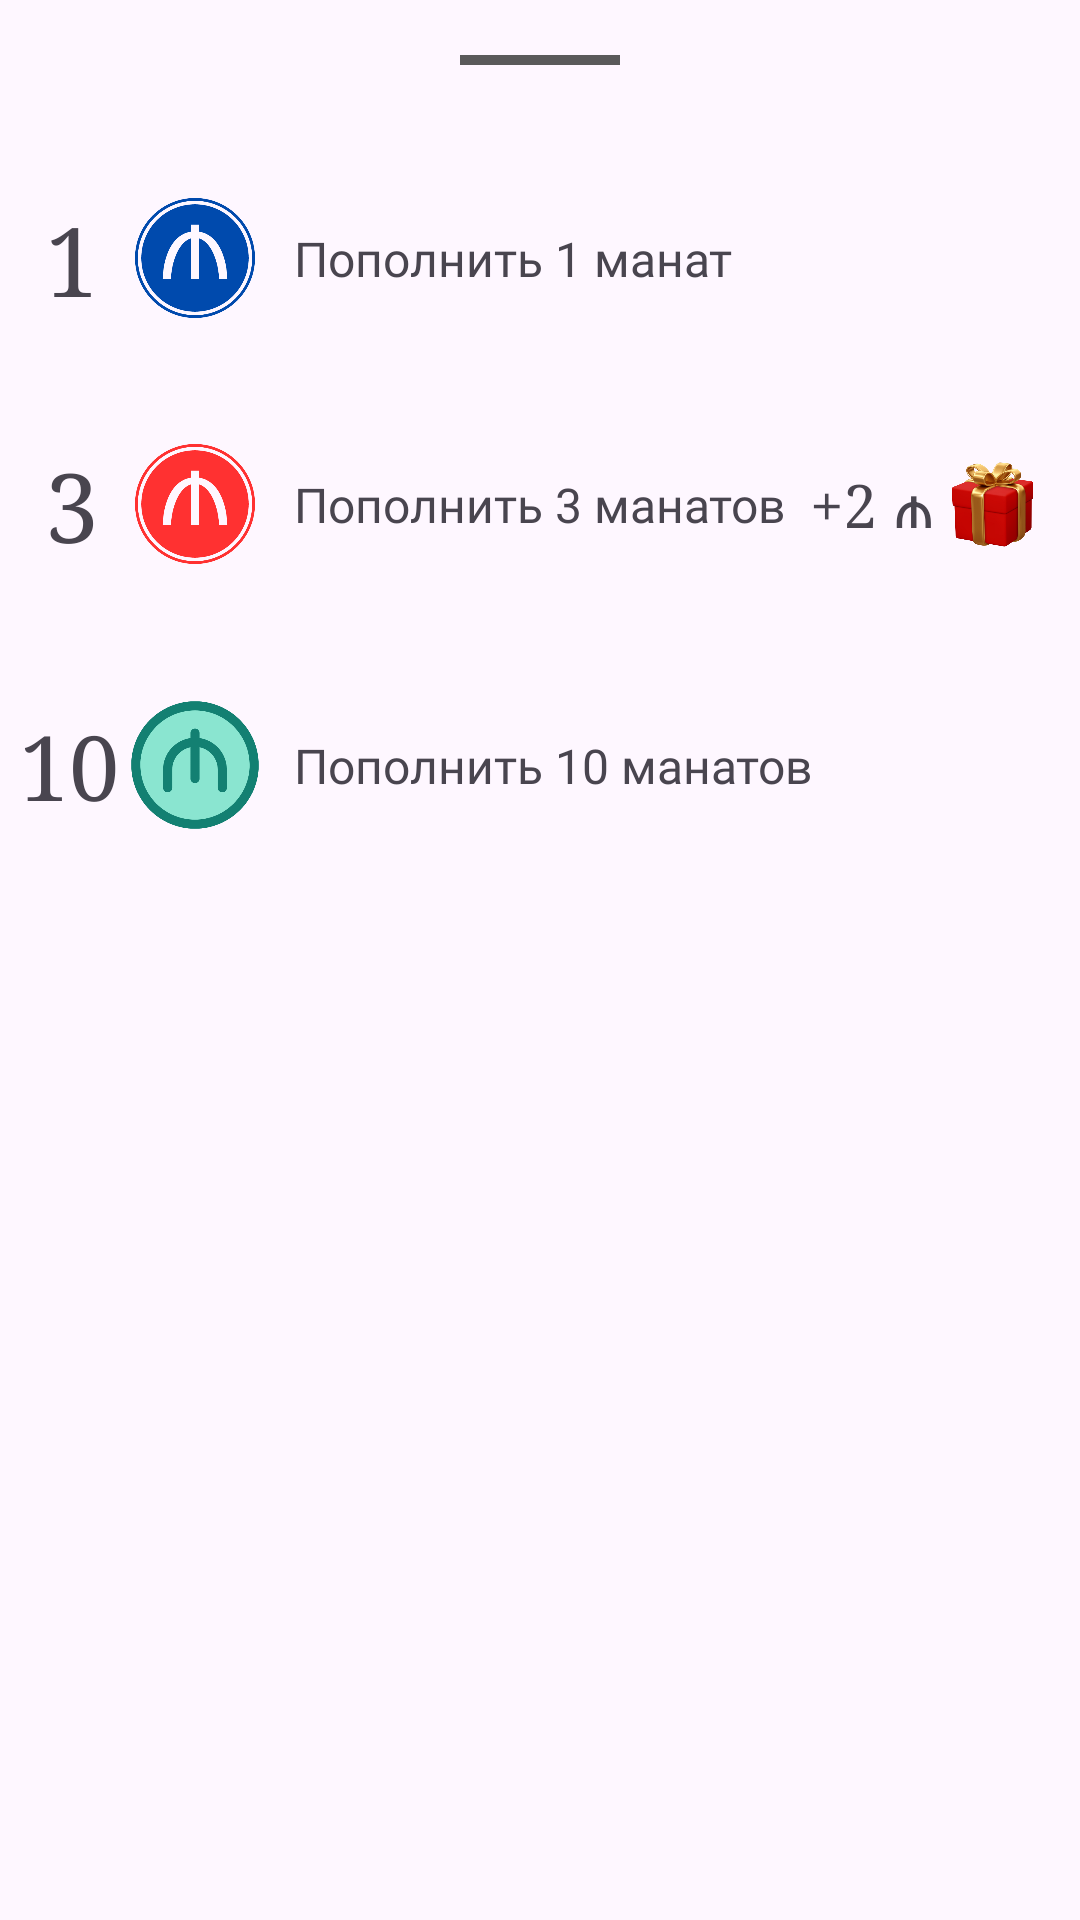

Icon bounding boxes for this 1080×1920 phone screenshot, format rect(x1, y1, x2, y2):
manat: rect(135, 198, 255, 318), rect(135, 444, 255, 564), rect(131, 701, 259, 829)
present: rect(952, 462, 1033, 547)
